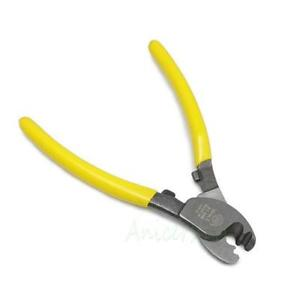Nonrec_Tangler: (12, 34, 280, 269)
